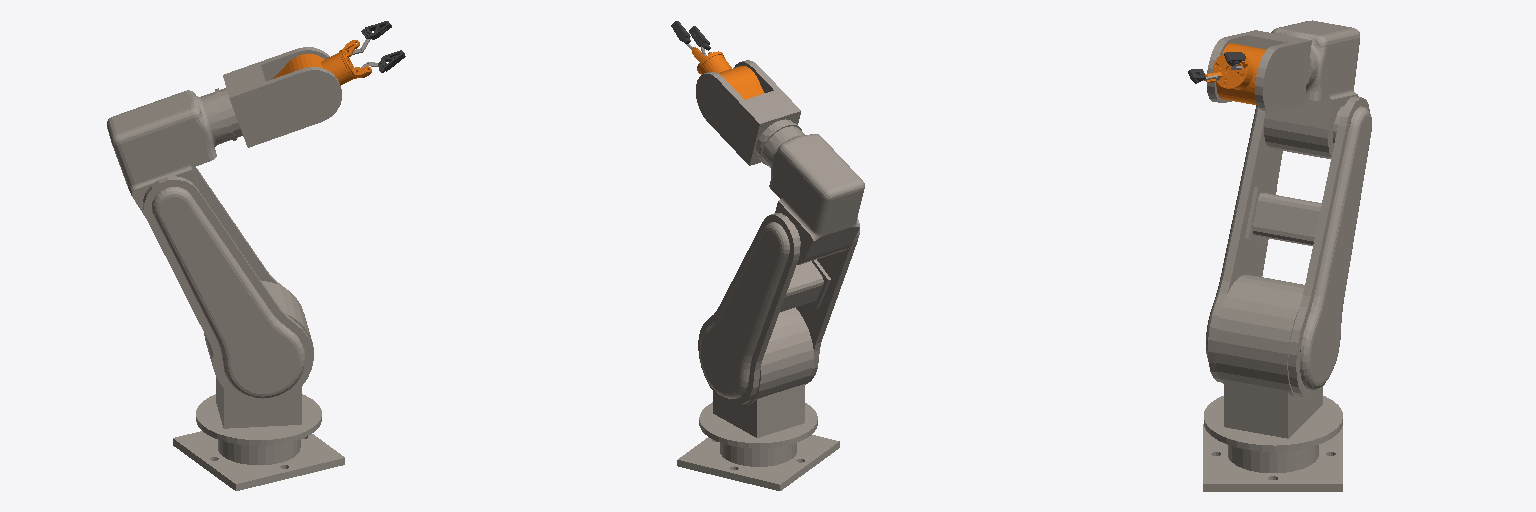
The robot description file, URDF, robot "ABB_ROBOTIC_ARM - Copy":
<?xml version="1.0" encoding="utf-8"?>
<!-- This URDF was automatically created by SolidWorks to URDF Exporter! Originally created by Stephen Brawner (brawner@gmail.com) 
     Commit Version: 1.6.0-4-g7f85cfe  Build Version: 1.6.7995.38578
     For more information, please see http://wiki.ros.org/sw_urdf_exporter -->
<robot
  name="ABB_ROBOTIC_ARM - Copy">
  <link
    name="base_link">
    <inertial>
      <origin
        xyz="1.13408049481814 0.0608590034631092 1.3301718231797"
        rpy="0 0 0" />
      <mass
        value="17.8330981124895" />
      <inertia
        ixx="0.151603405180447"
        ixy="-4.11157207314191E-18"
        ixz="2.44631685358945E-17"
        iyy="0.291021045660423"
        iyz="1.45056999387444E-15"
        izz="0.151603405180447" />
    </inertial>
    <visual>
      <origin
        xyz="0 0 0"
        rpy="0 0 0" />
      <geometry>
        <mesh
          filename="package://ABB_ROBOTIC_ARM - Copy/meshes/base_link.STL" />
      </geometry>
      <material
        name="">
        <color
          rgba="0.650980392156863 0.619607843137255 0.588235294117647 1" />
      </material>
    </visual>
    <collision>
      <origin
        xyz="0 0 0"
        rpy="0 0 0" />
      <geometry>
        <mesh
          filename="package://ABB_ROBOTIC_ARM - Copy/meshes/base_link.STL" />
      </geometry>
    </collision>
  </link>
  <link
    name="rotating_base">
    <inertial>
      <origin
        xyz="4.44089209850063E-16 0.192379394939928 1.99840144432528E-15"
        rpy="0 0 0" />
      <mass
        value="101.161881303097" />
      <inertia
        ixx="1.76865891693344"
        ixy="-3.8940424776345E-15"
        ixz="7.21644966006352E-16"
        iyy="0.771564763582946"
        iyz="-1.11674639469458E-14"
        izz="1.95104905421996" />
    </inertial>
    <visual>
      <origin
        xyz="0 0 0"
        rpy="0 0 0" />
      <geometry>
        <mesh
          filename="package://ABB_ROBOTIC_ARM - Copy/meshes/rotating_base.STL" />
      </geometry>
      <material
        name="">
        <color
          rgba="0.650980392156863 0.619607843137255 0.588235294117647 1" />
      </material>
    </visual>
    <collision>
      <origin
        xyz="0 0 0"
        rpy="0 0 0" />
      <geometry>
        <mesh
          filename="package://ABB_ROBOTIC_ARM - Copy/meshes/rotating_base.STL" />
      </geometry>
    </collision>
  </link>
  <joint
    name="joint_1"
    type="fixed">
    <origin
      xyz="1.1341 -1.3302 0.065183"
      rpy="1.5708 0 -0.40266" />
    <parent
      link="base_link" />
    <child
      link="rotating_base" />
    <axis
      xyz="0 0 0" />
  </joint>
  <link
    name="arm_1">
    <inertial>
      <origin
        xyz="-4.78176681757425E-05 2.62465826850189E-10 -0.191426601911519"
        rpy="0 0 0" />
      <mass
        value="116.177837583636" />
      <inertia
        ixx="5.30577804972392"
        ixy="2.97976815444301E-08"
        ixz="-0.000436491100967565"
        iyy="4.59880018329291"
        iyz="2.95134199024272E-09"
        izz="1.1537878393862" />
    </inertial>
    <visual>
      <origin
        xyz="0 0 0"
        rpy="0 0 0" />
      <geometry>
        <mesh
          filename="package://ABB_ROBOTIC_ARM - Copy/meshes/arm_1.STL" />
      </geometry>
      <material
        name="">
        <color
          rgba="0.650980392156863 0.619607843137255 0.588235294117647 1" />
      </material>
    </visual>
    <collision>
      <origin
        xyz="0 0 0"
        rpy="0 0 0" />
      <geometry>
        <mesh
          filename="package://ABB_ROBOTIC_ARM - Copy/meshes/arm_1.STL" />
      </geometry>
    </collision>
  </link>
  <joint
    name="joint_2"
    type="fixed">
    <origin
      xyz="0 0.296 0"
      rpy="1.5708 0 0.48365" />
    <parent
      link="rotating_base" />
    <child
      link="arm_1" />
    <axis
      xyz="0 0 0" />
  </joint>
  <link
    name="arm_2">
    <inertial>
      <origin
        xyz="0.229781411447812 -0.0243314767726162 5.10548086030127E-08"
        rpy="0 0 0" />
      <mass
        value="94.0036218759647" />
      <inertia
        ixx="0.583392740957714"
        ixy="-0.319318926460306"
        ixz="5.97737598417858E-07"
        iyy="2.63622899478485"
        iyz="1.11751488479639E-07"
        izz="2.88840492165261" />
    </inertial>
    <visual>
      <origin
        xyz="0 0 0"
        rpy="0 0 0" />
      <geometry>
        <mesh
          filename="package://ABB_ROBOTIC_ARM - Copy/meshes/arm_2.STL" />
      </geometry>
      <material
        name="">
        <color
          rgba="0.650980392156863 0.619607843137255 0.588235294117647 1" />
      </material>
    </visual>
    <collision>
      <origin
        xyz="0 0 0"
        rpy="0 0 0" />
      <geometry>
        <mesh
          filename="package://ABB_ROBOTIC_ARM - Copy/meshes/arm_2.STL" />
      </geometry>
    </collision>
  </link>
  <joint
    name="joint_3"
    type="fixed">
    <origin
      xyz="-0.067551855578925 0.0100000000000137 -0.658204041519711"
      rpy="-1.5707963267949 -0.164566043557948 0" />
    <parent
      link="arm_1" />
    <child
      link="arm_2" />
    <axis
      xyz="0 0 0" />
  </joint>
  <link
    name="wrist">
    <inertial>
      <origin
        xyz="-0.017389878133665 -5.35679606228356E-09 -2.89713593115692E-08"
        rpy="0 0 0" />
      <mass
        value="5.8994657750365" />
      <inertia
        ixx="0.0136849942680461"
        ixy="3.41083287470618E-08"
        ixz="5.95321833756629E-09"
        iyy="0.0177393940012646"
        iyz="-3.24471977448341E-08"
        izz="0.0216046283832119" />
    </inertial>
    <visual>
      <origin
        xyz="0 0 0"
        rpy="0 0 0" />
      <geometry>
        <mesh
          filename="package://ABB_ROBOTIC_ARM - Copy/meshes/wrist.STL" />
      </geometry>
      <material
        name="">
        <color
          rgba="0.913725490196078 0.501960784313725 0.141176470588235 1" />
      </material>
    </visual>
    <collision>
      <origin
        xyz="0 0 0"
        rpy="0 0 0" />
      <geometry>
        <mesh
          filename="package://ABB_ROBOTIC_ARM - Copy/meshes/wrist.STL" />
      </geometry>
    </collision>
  </link>
  <joint
    name="joint_4"
    type="fixed">
    <origin
      xyz="0.52 0 0"
      rpy="0 0 0.169807029025984" />
    <parent
      link="arm_2" />
    <child
      link="wrist" />
    <axis
      xyz="0 0 0" />
  </joint>
  <link
    name="wrist_base">
    <inertial>
      <origin
        xyz="5.51380339053331E-06 0.0890996305041898 6.122969143596E-06"
        rpy="0 0 0" />
      <mass
        value="0.744018851129727" />
      <inertia
        ixx="0.000371302247296336"
        ixy="3.90316905437142E-08"
        ixz="1.10438334682073E-07"
        iyy="0.000803607354992432"
        iyz="4.34052033188823E-08"
        izz="0.000697180191193761" />
    </inertial>
    <visual>
      <origin
        xyz="0 0 0"
        rpy="0 0 0" />
      <geometry>
        <mesh
          filename="package://ABB_ROBOTIC_ARM - Copy/meshes/wrist_base.STL" />
      </geometry>
      <material
        name="">
        <color
          rgba="0.913725490196078 0.501960784313725 0.141176470588235 1" />
      </material>
    </visual>
    <collision>
      <origin
        xyz="0 0 0"
        rpy="0 0 0" />
      <geometry>
        <mesh
          filename="package://ABB_ROBOTIC_ARM - Copy/meshes/wrist_base.STL" />
      </geometry>
    </collision>
  </link>
  <joint
    name="joint_5"
    type="continuous">
    <origin
      xyz="0.0276356099116108 0 0"
      rpy="3.14159265358979 0.968192123337037 1.57079632679489" />
    <parent
      link="wrist" />
    <child
      link="wrist_base" />
    <axis
      xyz="0 1 0" />
  </joint>
  <link
    name="left_finger">
    <inertial>
      <origin
        xyz="0.0424146137570238 0.0369905067863747 -0.00760000000402306"
        rpy="0 0 0" />
      <mass
        value="0.0305002220078837" />
      <inertia
        ixx="9.55652324087405E-06"
        ixy="-4.52944242004213E-06"
        ixz="-1.73641754187132E-19"
        iyy="3.45532241739898E-06"
        iyz="-1.66971369727504E-19"
        izz="1.28768727603186E-05" />
    </inertial>
    <visual>
      <origin
        xyz="0 0 0"
        rpy="0 0 0" />
      <geometry>
        <mesh
          filename="package://ABB_ROBOTIC_ARM - Copy/meshes/left_finger.STL" />
      </geometry>
      <material
        name="">
        <color
          rgba="0.650980392156863 0.619607843137255 0.588235294117647 1" />
      </material>
    </visual>
    <collision>
      <origin
        xyz="0 0 0"
        rpy="0 0 0" />
      <geometry>
        <mesh
          filename="package://ABB_ROBOTIC_ARM - Copy/meshes/left_finger.STL" />
      </geometry>
    </collision>
  </link>
  <joint
    name="joint_6"
    type="continuous">
    <origin
      xyz="0 0.081864 0"
      rpy="-3.1416 0 2.8589" />
    <parent
      link="wrist_base" />
    <child
      link="left_finger" />
    <axis
      xyz="0.27896 0.9603 0" />
  </joint>
  <link
    name="left_grip">
    <inertial>
      <origin
        xyz="0.0371770528070412 0.0661574222391992 -0.000147958394161596"
        rpy="0 0 0" />
      <mass
        value="0.0287642484726689" />
      <inertia
        ixx="1.1548537530364E-05"
        ixy="2.49232939046107E-06"
        ixz="4.57520473643752E-09"
        iyy="3.66441417364892E-06"
        iyz="-1.35078477046649E-08"
        izz="1.33145333623349E-05" />
    </inertial>
    <visual>
      <origin
        xyz="0 0 0"
        rpy="0 0 0" />
      <geometry>
        <mesh
          filename="package://ABB_ROBOTIC_ARM - Copy/meshes/left_grip.STL" />
      </geometry>
      <material
        name="">
        <color
          rgba="0.298039215686275 0.298039215686275 0.298039215686275 1" />
      </material>
    </visual>
    <collision>
      <origin
        xyz="0 0 0"
        rpy="0 0 0" />
      <geometry>
        <mesh
          filename="package://ABB_ROBOTIC_ARM - Copy/meshes/left_grip.STL" />
      </geometry>
    </collision>
  </link>
  <joint
    name="joint_7"
    type="continuous">
    <origin
      xyz="0.012798 0.044056 0"
      rpy="0 0 -0.47588" />
    <parent
      link="left_finger" />
    <child
      link="left_grip" />
    <axis
      xyz="0.19196 -0.9814 0" />
  </joint>
  <link
    name="right_finger">
    <inertial>
      <origin
        xyz="0.0435646551425697 0.0409494012741929 0.00760000000399241"
        rpy="0 0 0" />
      <mass
        value="0.0305002220075457" />
      <inertia
        ixx="9.55652324083246E-06"
        ixy="-4.52944242002373E-06"
        ixz="-6.83280302726363E-18"
        iyy="3.45532241738623E-06"
        iyz="-5.48686767407654E-18"
        izz="1.28768727602658E-05" />
    </inertial>
    <visual>
      <origin
        xyz="0 0 0"
        rpy="0 0 0" />
      <geometry>
        <mesh
          filename="package://ABB_ROBOTIC_ARM - Copy/meshes/right_finger.STL" />
      </geometry>
      <material
        name="">
        <color
          rgba="0.650980392156863 0.619607843137255 0.588235294117647 1" />
      </material>
    </visual>
    <collision>
      <origin
        xyz="0 0 0"
        rpy="0 0 0" />
      <geometry>
        <mesh
          filename="package://ABB_ROBOTIC_ARM - Copy/meshes/right_finger.STL" />
      </geometry>
    </collision>
  </link>
  <joint
    name="joint_8"
    type="continuous">
    <origin
      xyz="0 0.0777410172319613 0"
      rpy="0 0 0.282714504489595" />
    <parent
      link="wrist_base" />
    <child
      link="right_finger" />
    <axis
      xyz="0.278963416494885 0.960301729800328 0" />
  </joint>
  <link
    name="right_grip">
    <inertial>
      <origin
        xyz="0.0379684460205199 0.0621115264469387 0.000112044851979021"
        rpy="0 0 0" />
      <mass
        value="0.0287642252485124" />
      <inertia
        ixx="1.15485263796597E-05"
        ixy="2.49232817223444E-06"
        ixz="4.57651677301441E-09"
        iyy="3.66441218282438E-06"
        iyz="-1.35083490257093E-08"
        izz="1.33145232178045E-05" />
    </inertial>
    <visual>
      <origin
        xyz="0 0 0"
        rpy="0 0 0" />
      <geometry>
        <mesh
          filename="package://ABB_ROBOTIC_ARM - Copy/meshes/right_grip.STL" />
      </geometry>
      <material
        name="">
        <color
          rgba="0.298039215686275 0.298039215686275 0.298039215686275 1" />
      </material>
    </visual>
    <collision>
      <origin
        xyz="0 0 0"
        rpy="0 0 0" />
      <geometry>
        <mesh
          filename="package://ABB_ROBOTIC_ARM - Copy/meshes/right_grip.STL" />
      </geometry>
    </collision>
  </link>
  <joint
    name="joint_9"
    type="continuous">
    <origin
      xyz="0.015098212210241 0.0519739809777255 0"
      rpy="0 0 -0.475878431235135" />
    <parent
      link="right_finger" />
    <child
      link="right_grip" />
    <axis
      xyz="0.19196493397768 -0.981401785265823 0" />
  </joint>
</robot>

--- Render facts (derived) ---
3 views of the same robot in one strip: view 1: azimuth 30°, elevation 25°; view 2: azimuth 150°, elevation 25°; view 3: azimuth 270°, elevation 25° (orthographic).
Model ABB_ROBOTIC_ARM - Copy with 10 links and 9 joints (5 continuous, 4 fixed), rooted at base_link, posed all joints at 0.
Visible links, largest first — view 1: arm_1, arm_2, rotating_base, base_link, wrist, wrist_base; view 2: arm_2, arm_1, rotating_base, base_link, wrist; view 3: arm_1, rotating_base, arm_2, base_link, wrist, wrist_base.
Link boxes in pixels (x1=…): arm_1: x1=143, y1=167, x2=312, y2=404; arm_2: x1=107, y1=47, x2=341, y2=217; rotating_base: x1=196, y1=281, x2=321, y2=445; base_link: x1=173, y1=431, x2=344, y2=490; wrist: x1=273, y1=53, x2=351, y2=85; wrist_base: x1=338, y1=40, x2=371, y2=79; arm_2: x1=696, y1=60, x2=864, y2=264; arm_1: x1=698, y1=213, x2=859, y2=405; rotating_base: x1=699, y1=307, x2=817, y2=448; base_link: x1=677, y1=435, x2=839, y2=490; wrist: x1=701, y1=56, x2=763, y2=99; arm_1: x1=1206, y1=96, x2=1371, y2=398; rotating_base: x1=1204, y1=275, x2=1342, y2=451; arm_2: x1=1207, y1=20, x2=1359, y2=158; base_link: x1=1203, y1=424, x2=1342, y2=491; wrist: x1=1216, y1=43, x2=1266, y2=104; wrist_base: x1=1205, y1=54, x2=1247, y2=88.
Size in the robot's own frame: 0.7071 by 0.4223 by 1.18 metres.
10 mesh visuals loaded from 10 distinct referenced files (10 binary STL).
